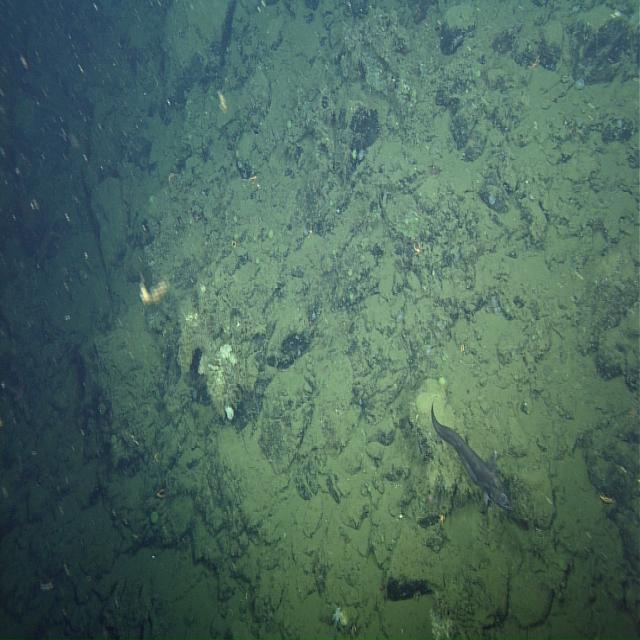Brittle Star: (528, 51, 544, 73)
Not Brittle Star: (428, 394, 517, 520), (330, 603, 351, 629), (573, 74, 587, 93), (156, 483, 168, 502), (225, 402, 235, 422), (412, 240, 422, 257), (150, 509, 160, 526), (395, 308, 405, 324), (488, 192, 497, 208), (425, 343, 433, 359), (357, 148, 365, 162), (236, 158, 244, 170)
